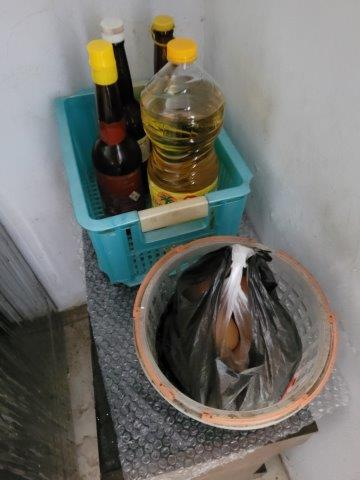botolkaca: (84, 43, 144, 212)
botolplastik: (143, 41, 226, 202)
plastik: (144, 243, 307, 411)
